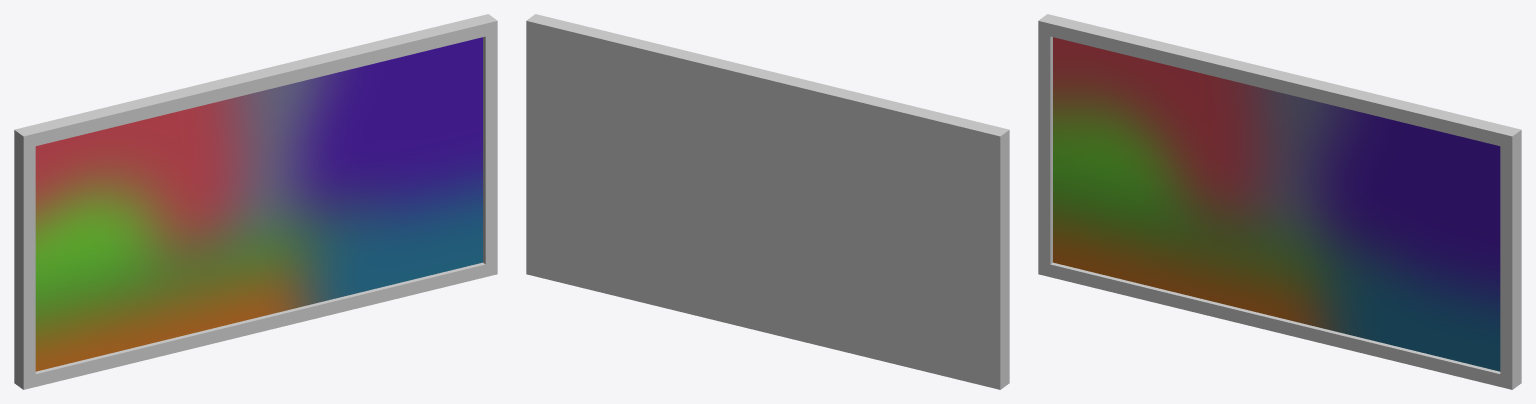
File: 09_painting.glb
The picture shows the model from 3 angles, left to right: view 1: azimuth 30°, elevation 25°; view 2: azimuth 150°, elevation 25°; view 3: azimuth 330°, elevation 25°; orthographic projection.
Visible parts, largest first — view 1: Painting; view 2: Painting; view 3: Painting.
Part boxes in pixels (left/top/right/bottom): Painting: left=14, top=14, right=497, bottom=389; Painting: left=526, top=14, right=1009, bottom=389; Painting: left=1038, top=14, right=1521, bottom=389.
Bounding box in the file's own units: 0.8682 × 0.4435 × 0.0294.
2 materials, 1 textured.
